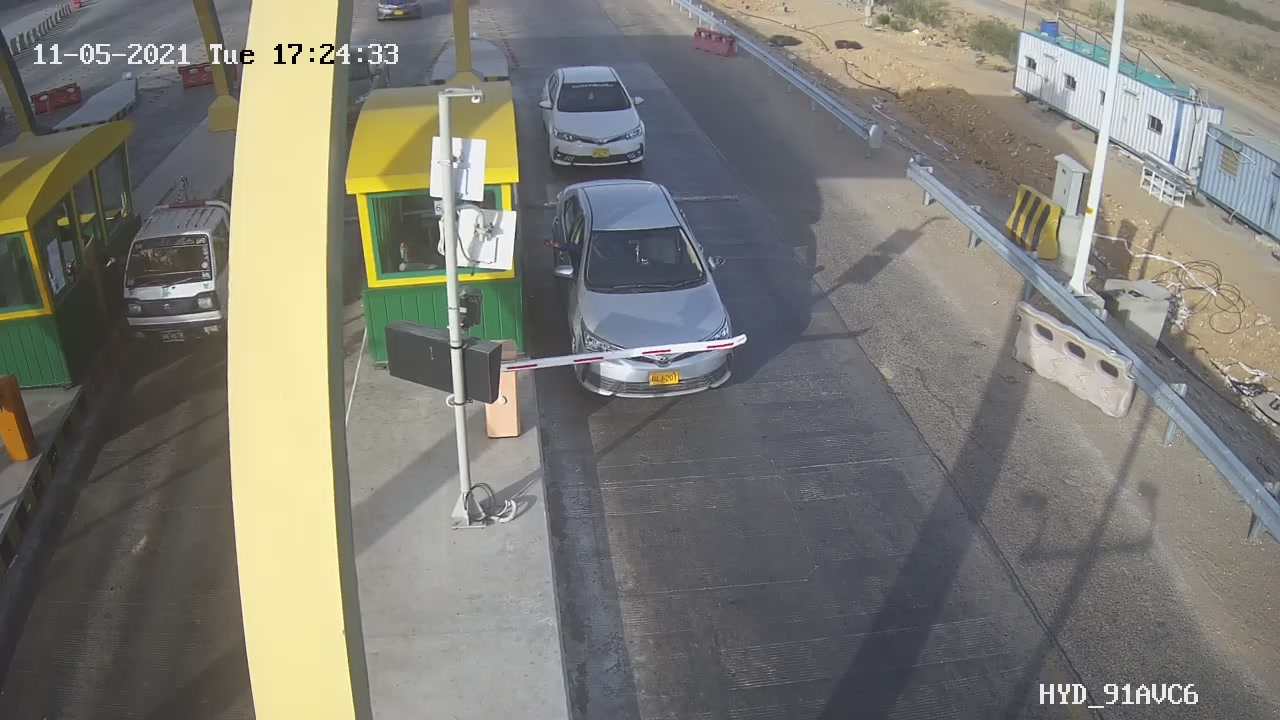F1: (525, 170, 769, 421), (524, 51, 663, 179)
